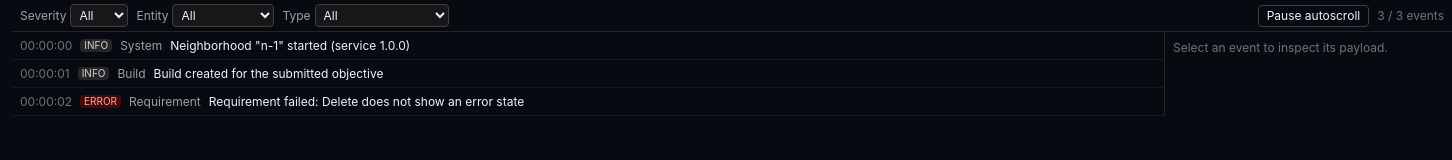
Test case: EventTimeline — filtering › filters by severity
Select "Error" in the dropdown named "Filter by severity" at (99, 16), box [70,4,128,27]
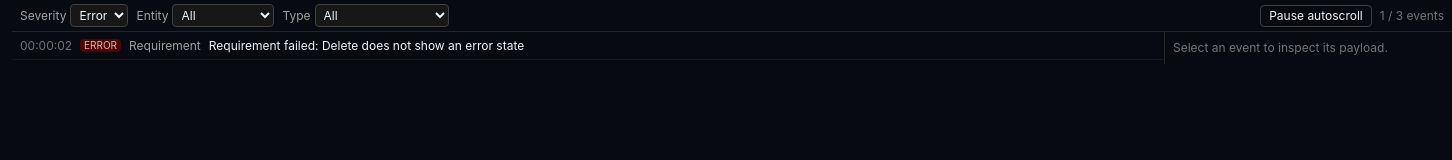
Check: the button with test id "timeline-row" shows "Requirement failed", box [12,32,1164,60]
Check: the number of buttons with test id "timeline-row" is 1, box [12,32,1164,60]
